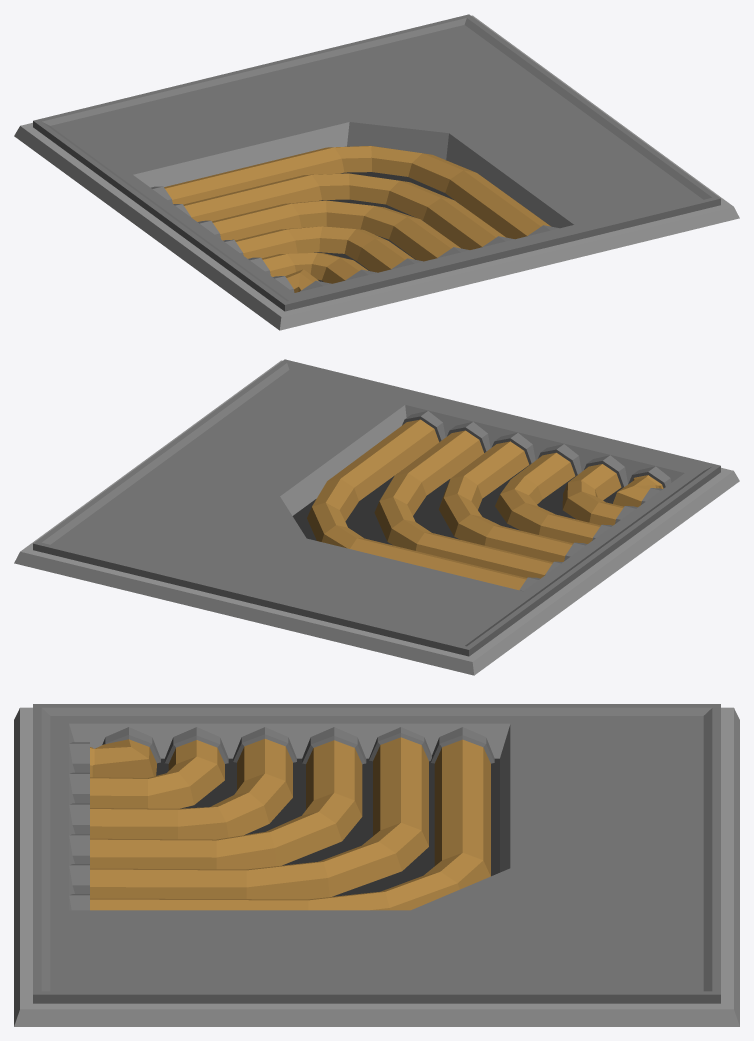
The model's file is rooftile_corner_pipes.glb.
The picture shows the model from 3 angles, top to bottom: view 1: azimuth 30°, elevation 25°; view 2: azimuth 150°, elevation 25°; view 3: azimuth 270°, elevation 25°; orthographic projection. The views are drawn at different scales.
Visible parts, largest first — view 1: RoofTile_Corner_Pipes; view 2: RoofTile_Corner_Pipes; view 3: RoofTile_Corner_Pipes.
Boxes of the visible parts, x1,y1,x2,y2 form: RoofTile_Corner_Pipes: (14, 14, 739, 330); RoofTile_Corner_Pipes: (14, 359, 739, 675); RoofTile_Corner_Pipes: (14, 704, 739, 1026).
Size of the model in its own units: 2 by 0.1147 by 2.
